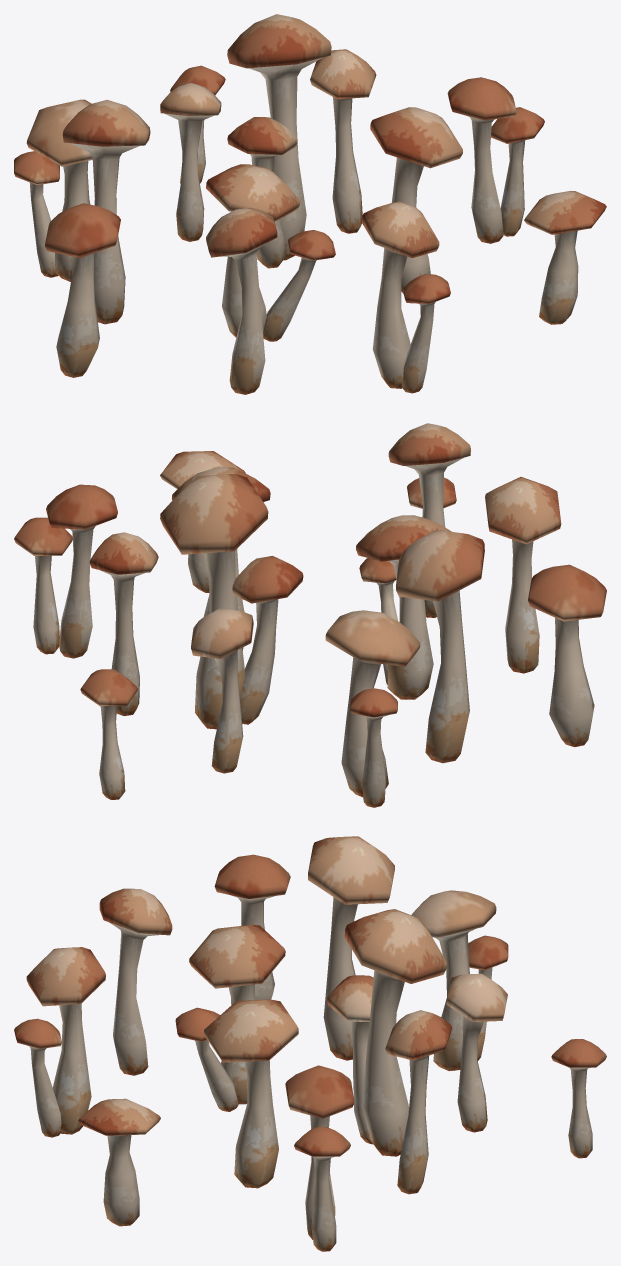
Rendered from Stage_Obj007.fbx.
3 views of the same model, one above another, from view 1: azimuth 30°, elevation 25°; view 2: azimuth 150°, elevation 25°; view 3: azimuth 270°, elevation 25° (orthographic). The views are drawn at different scales.
Parts seen in each view (by area): view 1: SM_SampleGame_Mushroom001; view 2: SM_SampleGame_Mushroom001; view 3: SM_SampleGame_Mushroom001.
Boxes of the visible parts, bbox=[...] form: SM_SampleGame_Mushroom001: bbox=[14, 14, 606, 394]; SM_SampleGame_Mushroom001: bbox=[14, 423, 606, 807]; SM_SampleGame_Mushroom001: bbox=[14, 836, 606, 1251].
Bounding box in the file's own units: 150 × 65.35 × 145.
1 material, 1 textured.
